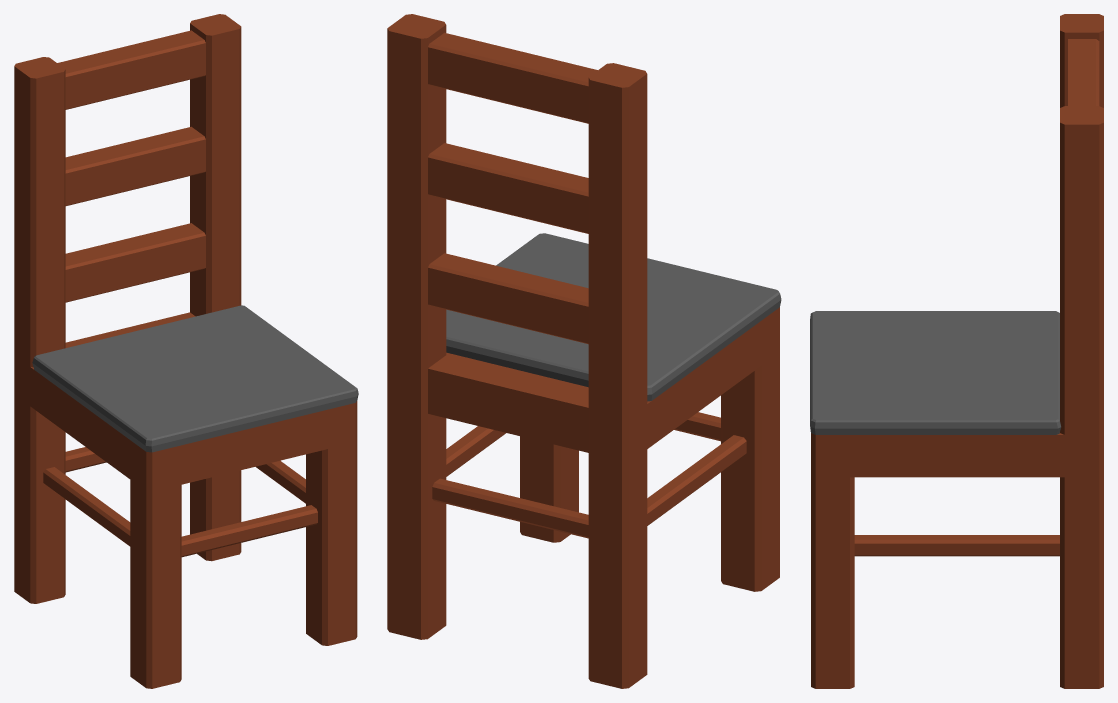
The model's file is Silla01.fbx.
3 views of the same model, side by side, from view 1: azimuth 30°, elevation 25°; view 2: azimuth 150°, elevation 25°; view 3: azimuth 270°, elevation 25° (orthographic). The views are drawn at different scales.
Parts seen in each view (by area): view 1: Silla01; view 2: Silla01; view 3: Silla01.
Boxes of the visible parts, bbox=[...] form: Silla01: bbox=[14, 14, 358, 688]; Silla01: bbox=[387, 14, 781, 688]; Silla01: bbox=[810, 14, 1103, 688].
Bounding box in the file's own units: 42.45 × 100 × 47.17.
